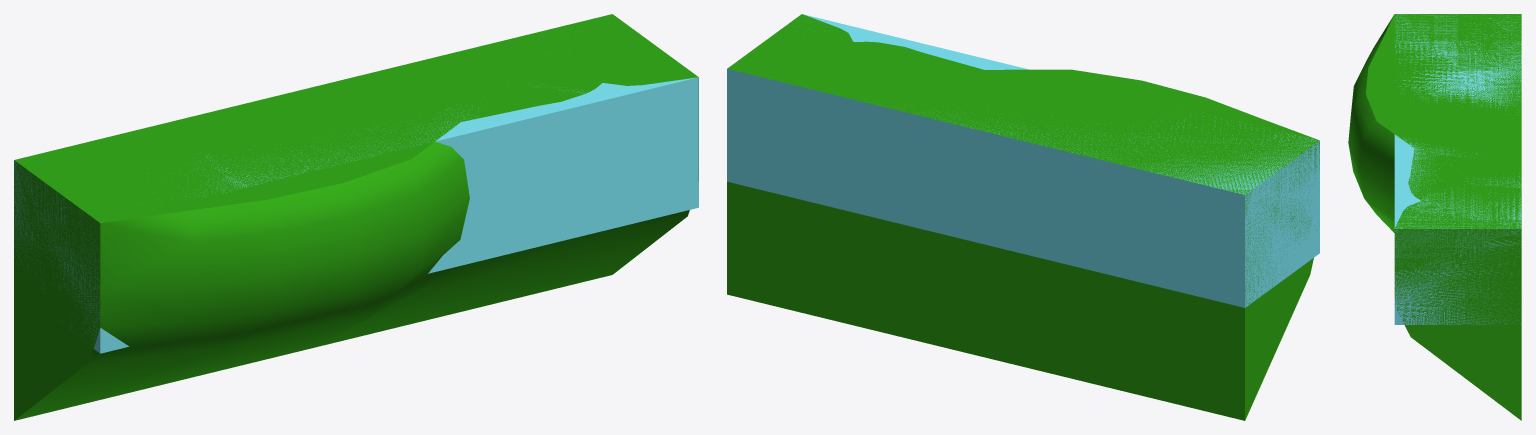
The model's file is PBOX_Grass_BOD_02.FBX.
3 renders of one model, left to right at view 1: azimuth 30°, elevation 25°; view 2: azimuth 150°, elevation 25°; view 3: azimuth 270°, elevation 25°, orthographic. The views are drawn at different scales.
Visible parts, largest first — view 1: PBOX_SUB_Grass_BOD_02, PBOX_Grass_BOD_02; view 2: PBOX_SUB_Grass_BOD_02, PBOX_Grass_BOD_02; view 3: PBOX_SUB_Grass_BOD_02, PBOX_Grass_BOD_02.
Part boxes in pixels (x1,y1,x2,y2): PBOX_SUB_Grass_BOD_02: (14,14,698,420); PBOX_Grass_BOD_02: (14,77,698,353); PBOX_SUB_Grass_BOD_02: (727,14,1319,420); PBOX_Grass_BOD_02: (727,14,1319,307); PBOX_SUB_Grass_BOD_02: (1348,14,1521,420); PBOX_Grass_BOD_02: (1394,14,1521,324).
Size of the model in its own units: 12 by 5 by 4.09.
